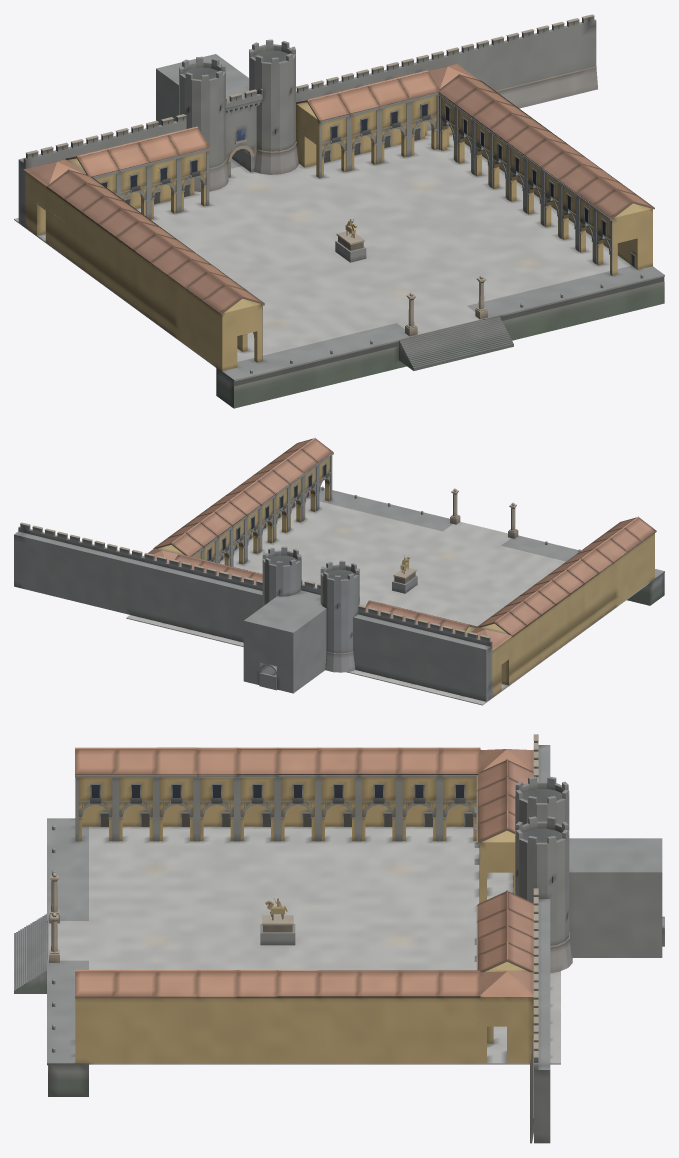
Rendered from terreiro.glb.
3 views of the same model, one above another, from view 1: azimuth 30°, elevation 25°; view 2: azimuth 150°, elevation 25°; view 3: azimuth 270°, elevation 25° (orthographic). The views are drawn at different scales.
Parts seen in each view (by area): view 1: tower_drum_8.002, tower_drum_8.001, terreiro_bay_6.019, terreiro_bay_6.020, water_stair_20.001, terreiro_bay_6.025, terreiro_bay_6.026, terreiro_bay_6.027, city_wall_12_6.051, terreiro_bay_6.024, terreiro_bay_6.023, gate_front.001 (+40 smaller); view 2: gate_passage_16.001, tower_drum_8.001, city_wall_12_6.038, tower_drum_8.002, city_wall_12_6.048, city_wall_12_6.047, city_wall_12_6.049, city_wall_12_6.039, city_wall_12_6.050, city_wall_12_6.041, city_wall_12_6.042, city_wall_12_6.046 (+36 smaller); view 3: gate_passage_16.001, tower_drum_8.002, terreiro_corner.002, terreiro_bay_6.010, terreiro_bay_6.006, terreiro_bay_6.014, terreiro_bay_6.008, terreiro_bay_6.004, terreiro_bay_6.002, terreiro_bay_6.020, terreiro_bay_6.012, terreiro_bay_6.016 (+33 smaller).
Boxes of the visible parts, x1,y1,x2,y2 form: tower_drum_8.002: (249, 39, 298, 174); tower_drum_8.001: (179, 56, 228, 191); terreiro_bay_6.019: (203, 283, 264, 371); terreiro_bay_6.020: (592, 188, 654, 275); water_stair_20.001: (399, 316, 513, 370); terreiro_bay_6.025: (296, 92, 350, 178); terreiro_bay_6.026: (334, 85, 380, 170); terreiro_bay_6.027: (364, 78, 410, 163); city_wall_12_6.051: (534, 21, 567, 103); terreiro_bay_6.024: (164, 126, 210, 212); terreiro_bay_6.023: (134, 134, 179, 219); gate_front.001: (225, 89, 262, 177); gate_passage_16.001: (243, 595, 326, 693); tower_drum_8.001: (320, 560, 359, 672); city_wall_12_6.038: (461, 631, 493, 701); tower_drum_8.002: (262, 546, 301, 606); city_wall_12_6.048: (113, 547, 143, 616); city_wall_12_6.047: (138, 553, 168, 622); city_wall_12_6.049: (88, 540, 118, 610); city_wall_12_6.039: (436, 625, 466, 695); city_wall_12_6.050: (63, 534, 93, 604); city_wall_12_6.041: (387, 613, 417, 683); city_wall_12_6.042: (362, 607, 392, 677); city_wall_12_6.046: (163, 559, 193, 628); gate_passage_16.001: (569, 838, 662, 957); tower_drum_8.002: (515, 816, 572, 973); terreiro_corner.002: (477, 971, 533, 1063); terreiro_bay_6.010: (277, 970, 318, 1063); terreiro_bay_6.006: (358, 970, 399, 1063); terreiro_bay_6.014: (196, 970, 237, 1063); terreiro_bay_6.008: (317, 970, 359, 1063); terreiro_bay_6.004: (398, 970, 440, 1063); terreiro_bay_6.002: (439, 970, 480, 1063); terreiro_bay_6.020: (75, 970, 116, 1063); terreiro_bay_6.012: (236, 970, 278, 1063); terreiro_bay_6.016: (155, 970, 197, 1063).
Bounding box in the file's own units: 114 × 27.3 × 96.5.
